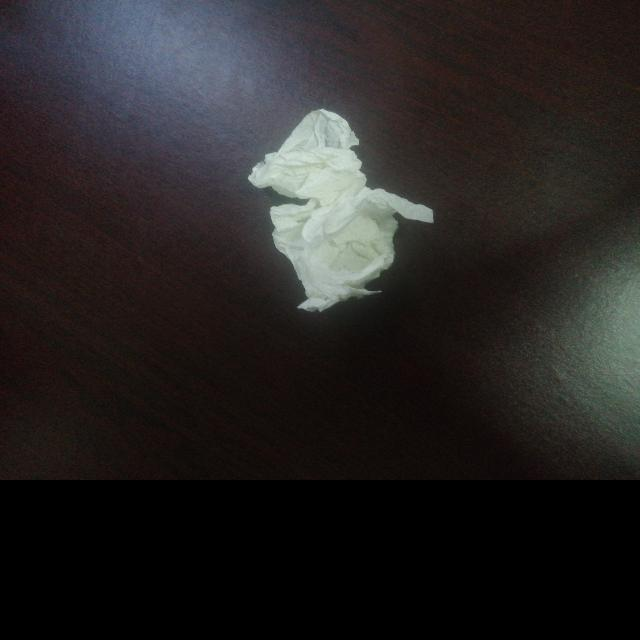kitchen paper: (245, 102, 440, 322)
